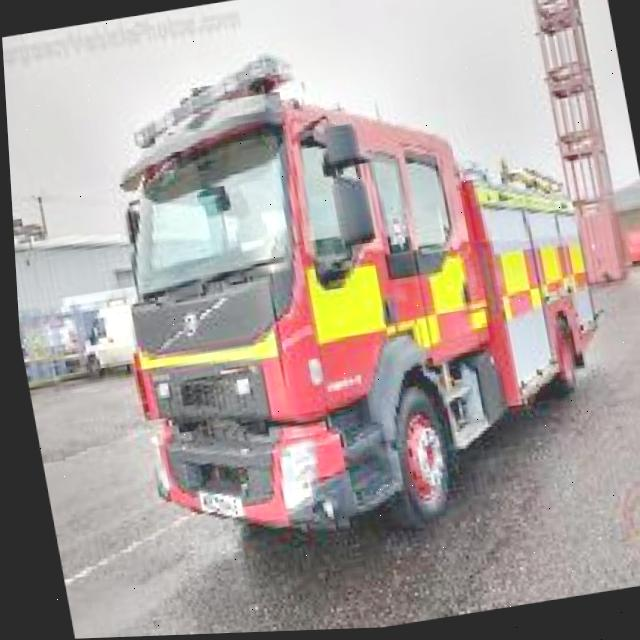emergency: (61, 0, 640, 573)
